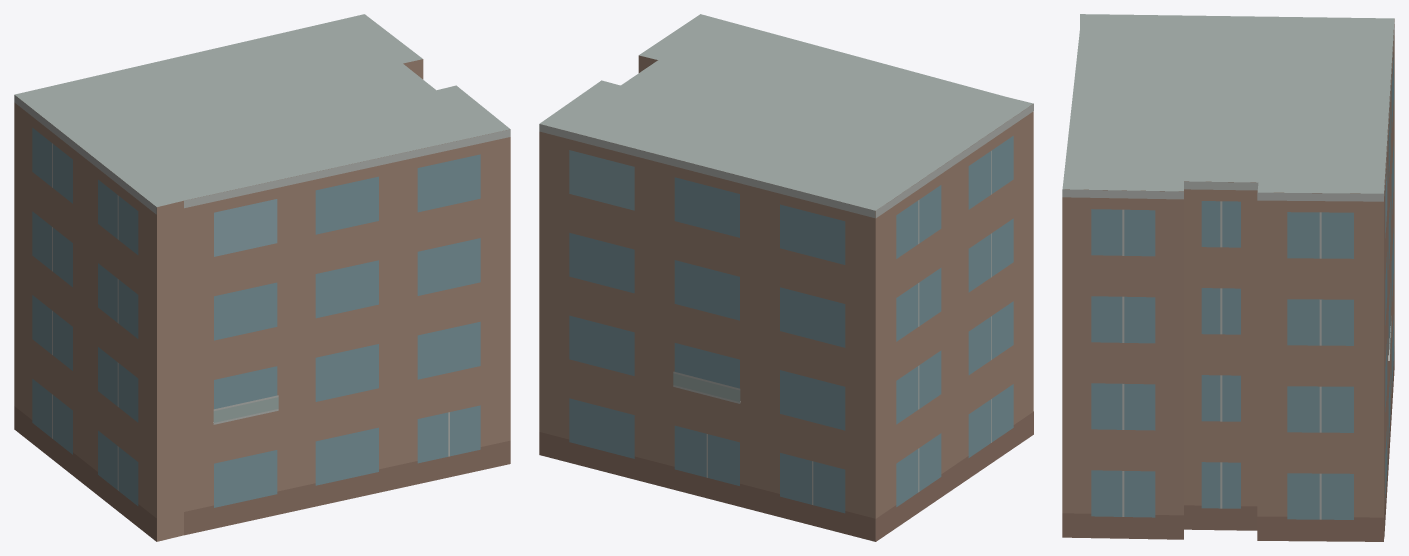
Rendered from survey-upis-32858310.glb.
3 renders of one model, left to right at view 1: azimuth 30°, elevation 25°; view 2: azimuth 150°, elevation 25°; view 3: azimuth 270°, elevation 25°, orthographic. The views are drawn at different scales.
Visible parts, largest first — view 1: survey-upis-32858310.tmp; view 2: survey-upis-32858310.tmp; view 3: survey-upis-32858310.tmp.
Part boxes in pixels (x1=…): survey-upis-32858310.tmp: x1=14, y1=14, x2=510, y2=541; survey-upis-32858310.tmp: x1=539, y1=14, x2=1033, y2=541; survey-upis-32858310.tmp: x1=1062, y1=14, x2=1394, y2=541.
Bounding box in the file's own units: 11.74 × 10.6 × 9.17.
